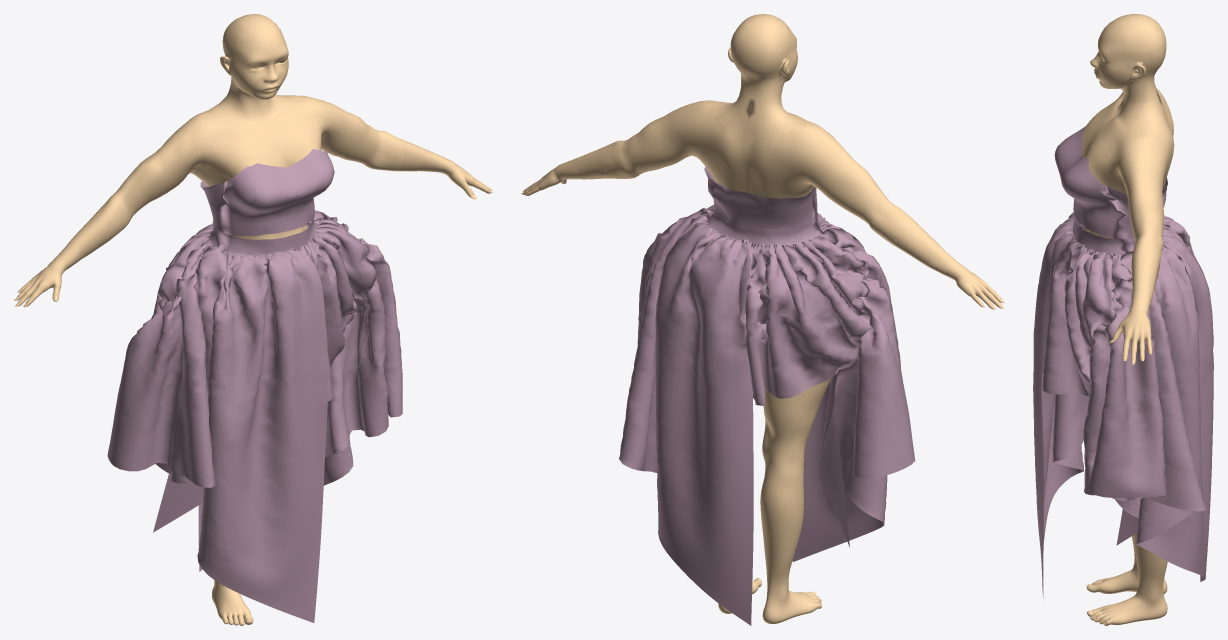
File: dress8.glb
The picture shows the model from 3 angles, left to right: view 1: azimuth 30°, elevation 25°; view 2: azimuth 150°, elevation 25°; view 3: azimuth 270°, elevation 25°; orthographic projection.
Visible parts, largest first — view 1: Project 1, Body; view 2: Project 1, Body; view 3: Project 1, Body.
Part boxes in pixels (<box>): Project 1: <box>107,149,402,622</box>; Body: <box>16,14,492,625</box>; Project 1: <box>619,167,915,625</box>; Body: <box>523,14,1001,623</box>; Project 1: <box>1033,126,1213,602</box>; Body: <box>1081,14,1174,625</box>.
Bounding box in the file's own units: 1.58 × 1.85 × 0.5151.
